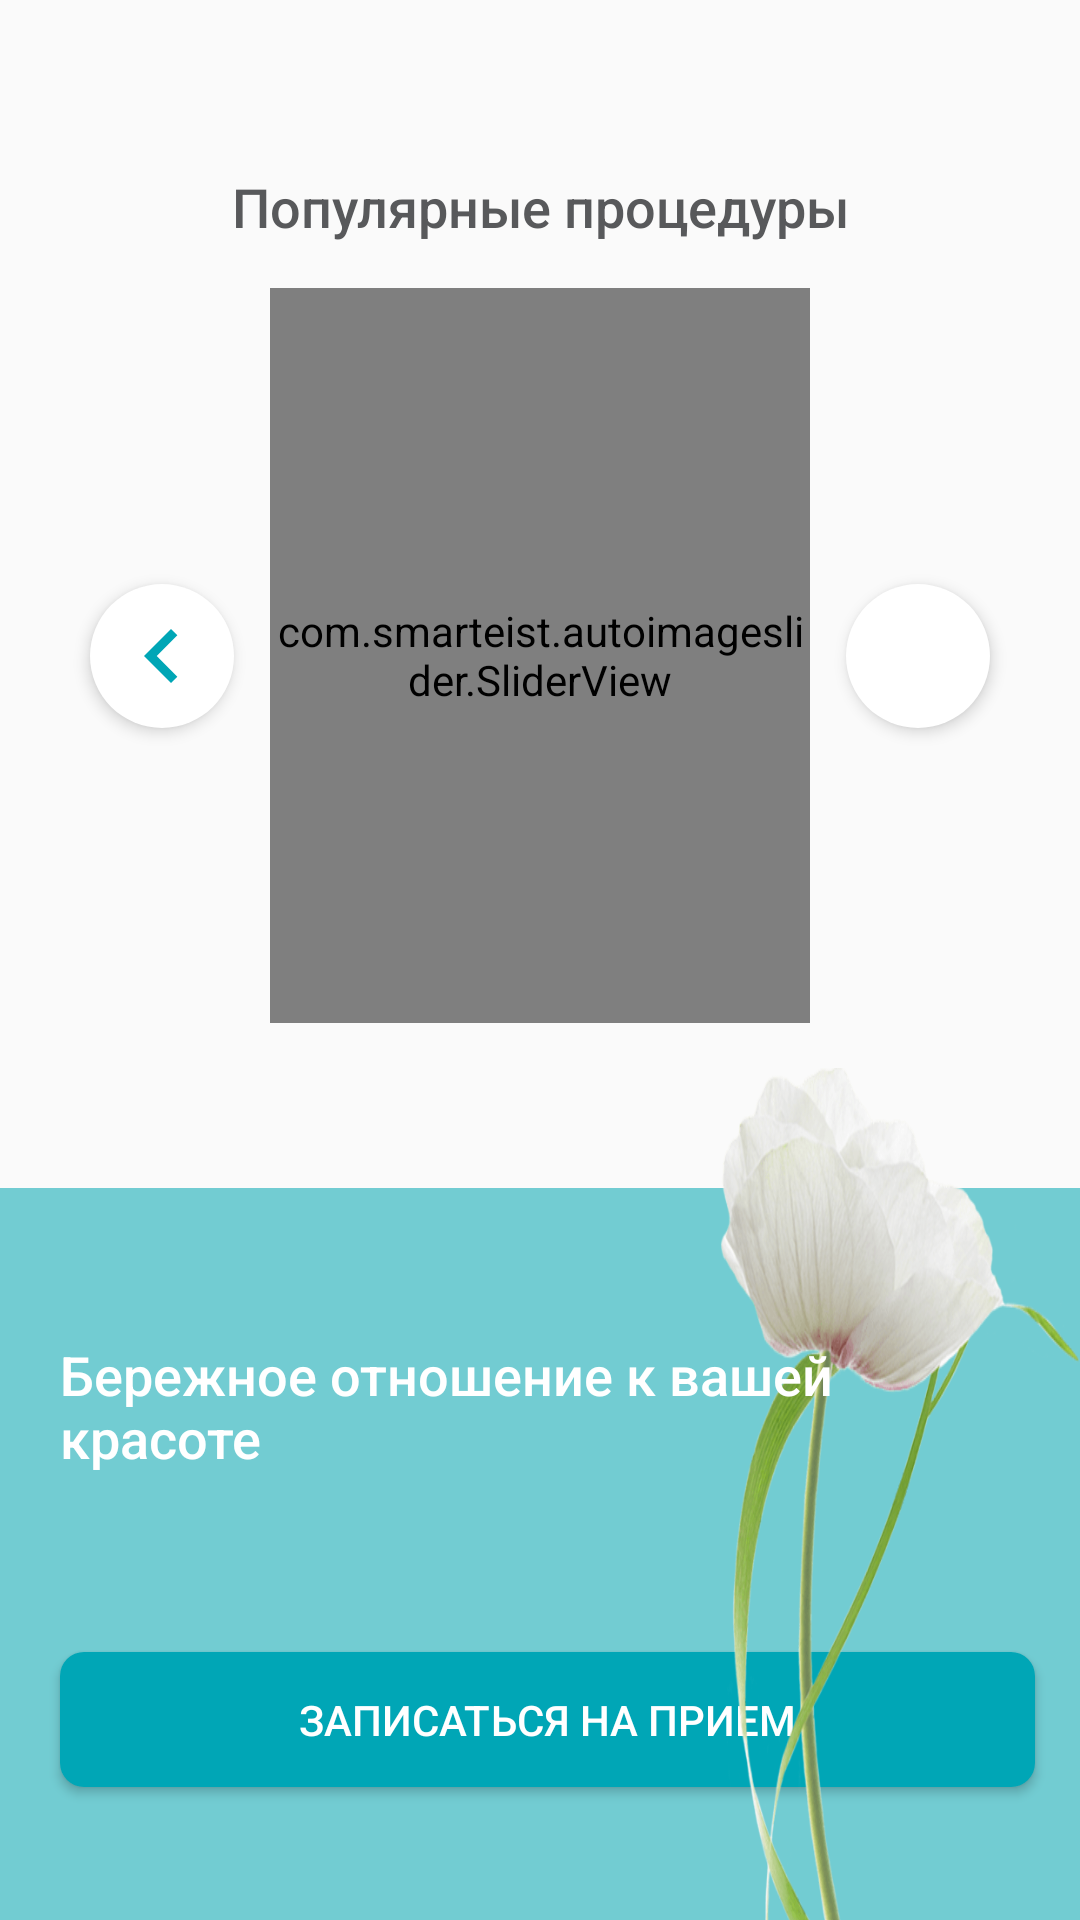

Icons on this 1080 x 1920 Android screen, each with its box as (x1, y1, x2, y2):
chevron left: (90, 629, 204, 728)
